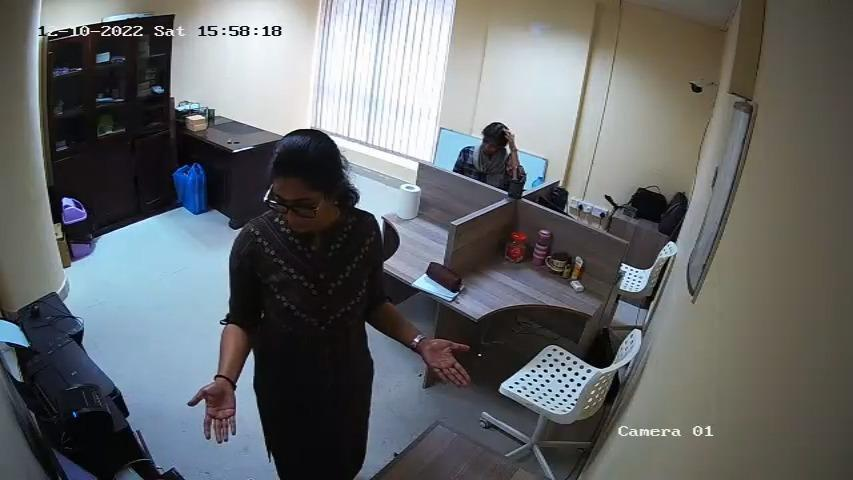no_apron: (187, 378, 237, 449), (416, 336, 474, 392), (499, 128, 528, 154)
no_gloves: (267, 124, 350, 186), (477, 116, 522, 147)
no_hairnet: (272, 203, 337, 239), (477, 137, 506, 158)
